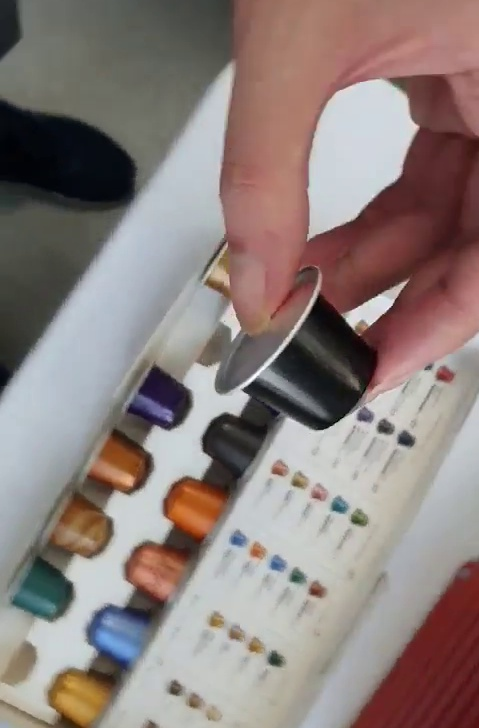capsule_10: (211, 264, 382, 426)
